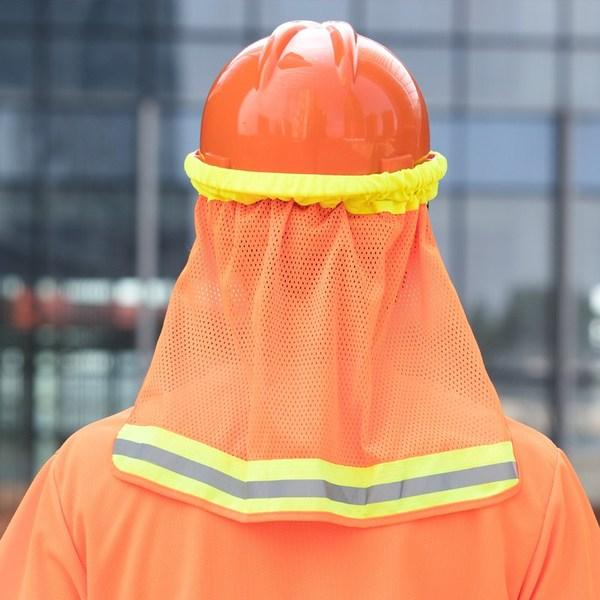helmet: (178, 19, 447, 210)
